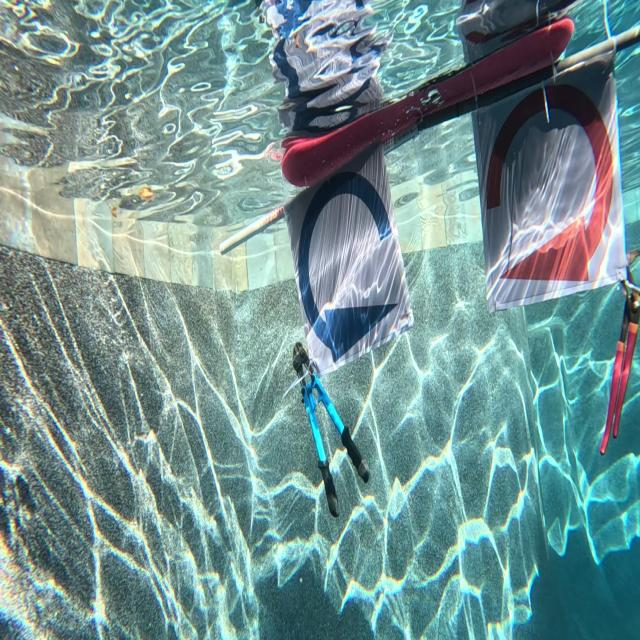blue_side: (295, 170, 396, 352)
red_side: (484, 85, 614, 283)
